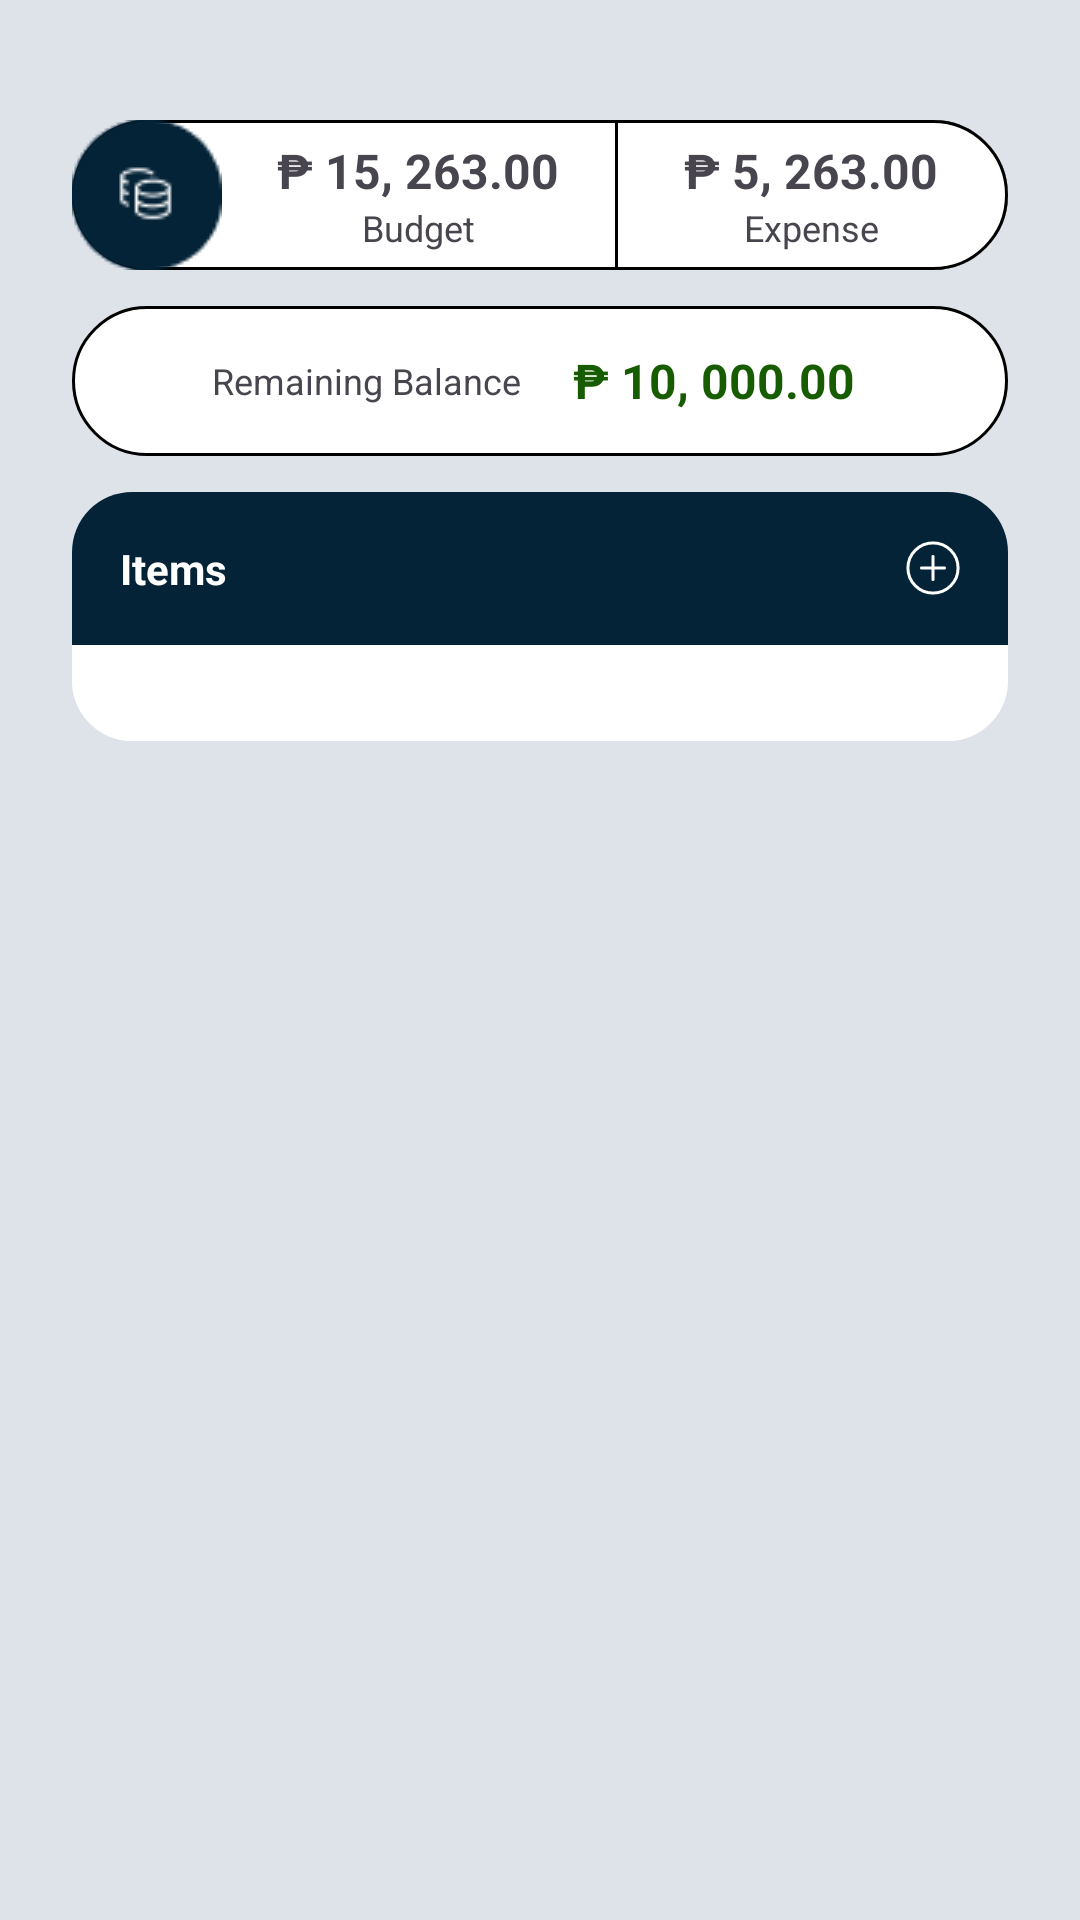

Where icons sit on this 1080x1920 app screen, as (x1, y1, x2, y2):
add circle: (906, 541, 960, 595)
